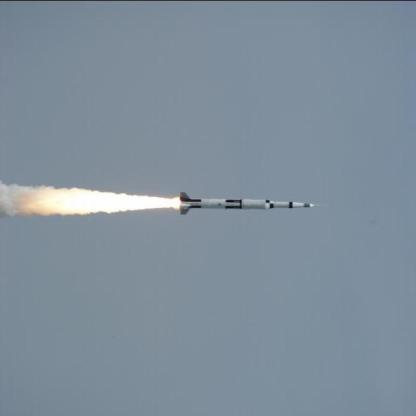MIL_TBM: (174, 190, 328, 216)
